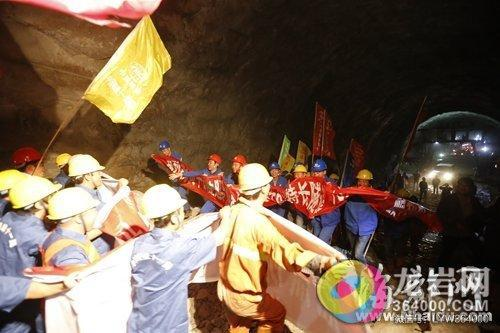helmet: (45, 182, 105, 238), (139, 179, 191, 240), (10, 177, 56, 216), (237, 162, 271, 206), (69, 154, 103, 189), (13, 146, 43, 176), (354, 169, 375, 190), (229, 153, 246, 175), (205, 155, 224, 174), (291, 162, 307, 184), (267, 159, 283, 179), (311, 158, 326, 178), (157, 141, 173, 158)
